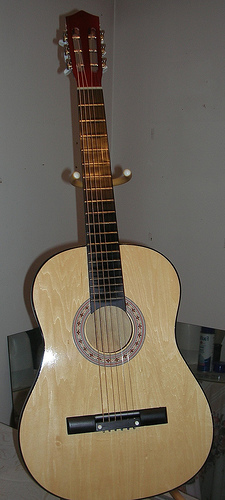guitar: (1, 4, 216, 500)
